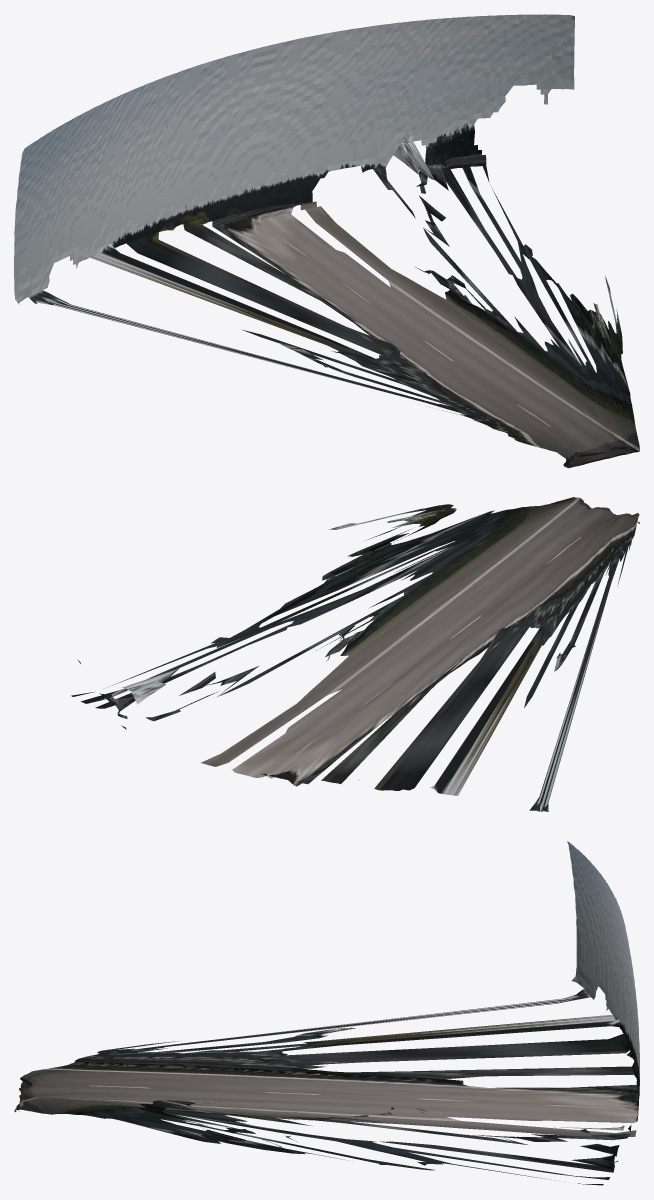
3 views of the same model, one above another, from view 1: azimuth 30°, elevation 25°; view 2: azimuth 150°, elevation 25°; view 3: azimuth 270°, elevation 25° (orthographic). The views are drawn at different scales.
Parts seen in each view (by area): view 1: defaultobject; view 2: defaultobject; view 3: defaultobject.
Boxes of the visible parts, x1=… form: defaultobject: x1=14, y1=14, x2=639, y2=468; defaultobject: x1=71, y1=497, x2=639, y2=811; defaultobject: x1=14, y1=841, x2=639, y2=1185.
Bounding box in the file's own units: 41.09 × 12.76 × 44.43.
Materials: 1 (1 with a texture image).
